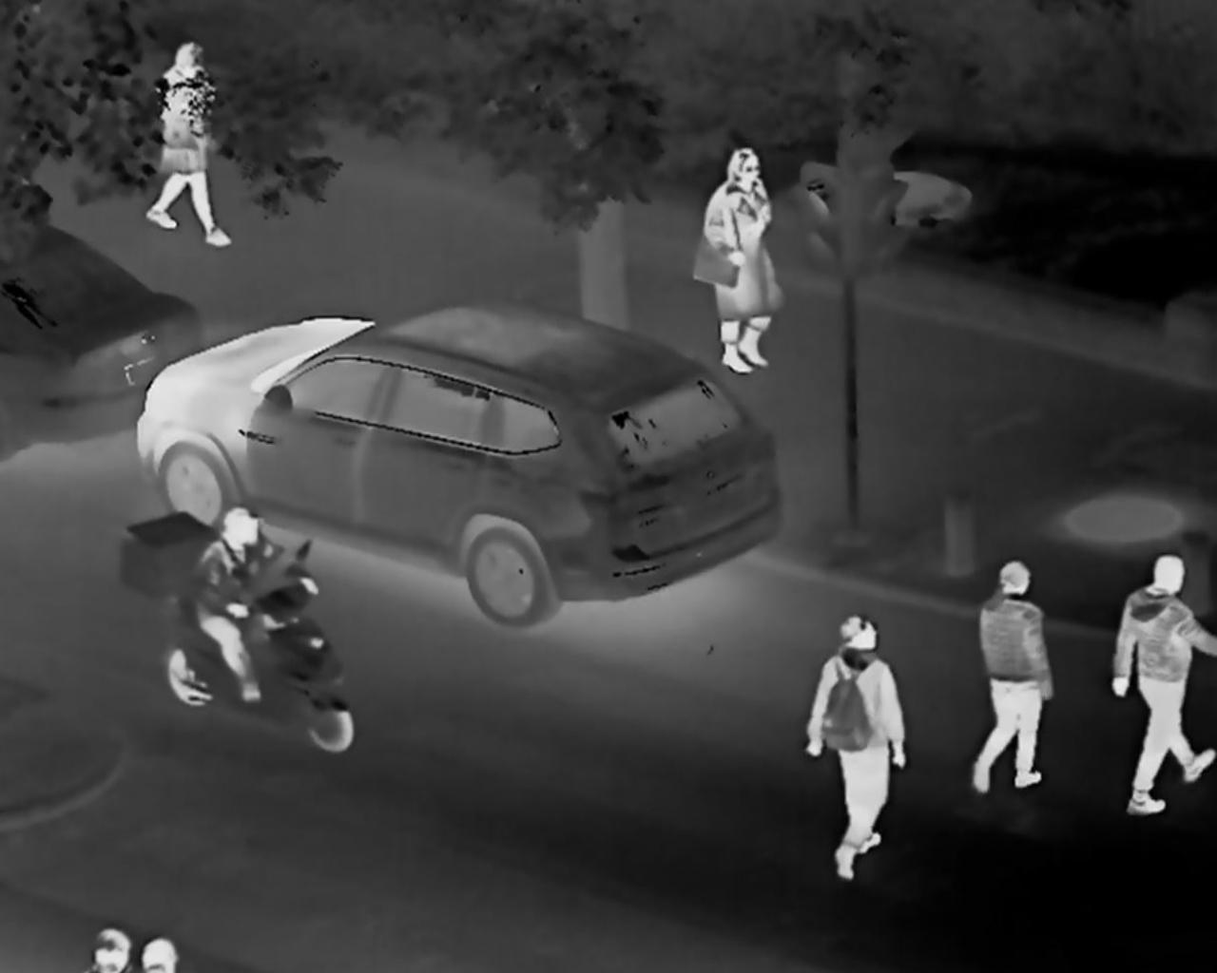person: (785, 598, 912, 884), (1109, 543, 1217, 845), (959, 540, 1068, 802), (705, 132, 804, 409), (146, 40, 269, 253), (191, 492, 292, 730), (95, 904, 126, 973), (131, 942, 167, 973)
